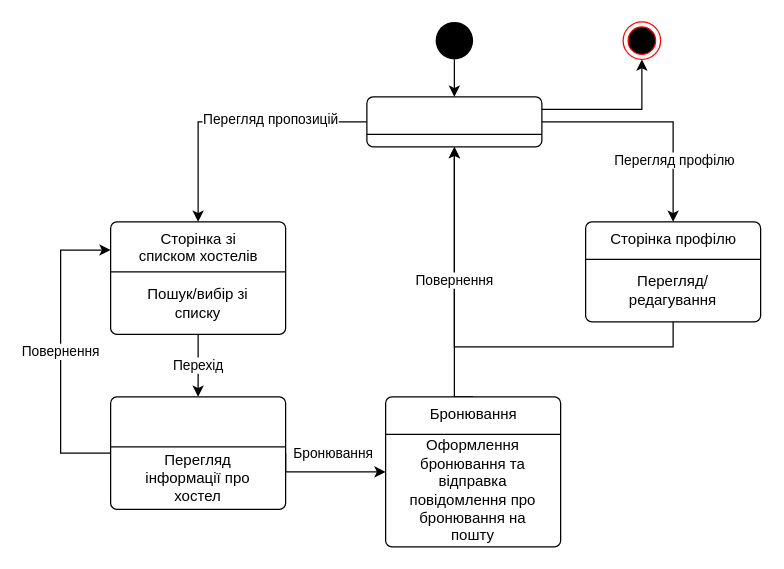
The diagram is 784 pixels wide and 569 high, and some of its shapes have lost their labels. Here are the shapes that lost their labels. From the top down, the box of each, then its label:
(366, 96, 542, 147): Початкова сторнка
(109, 396, 286, 509): Інформація про хостел
